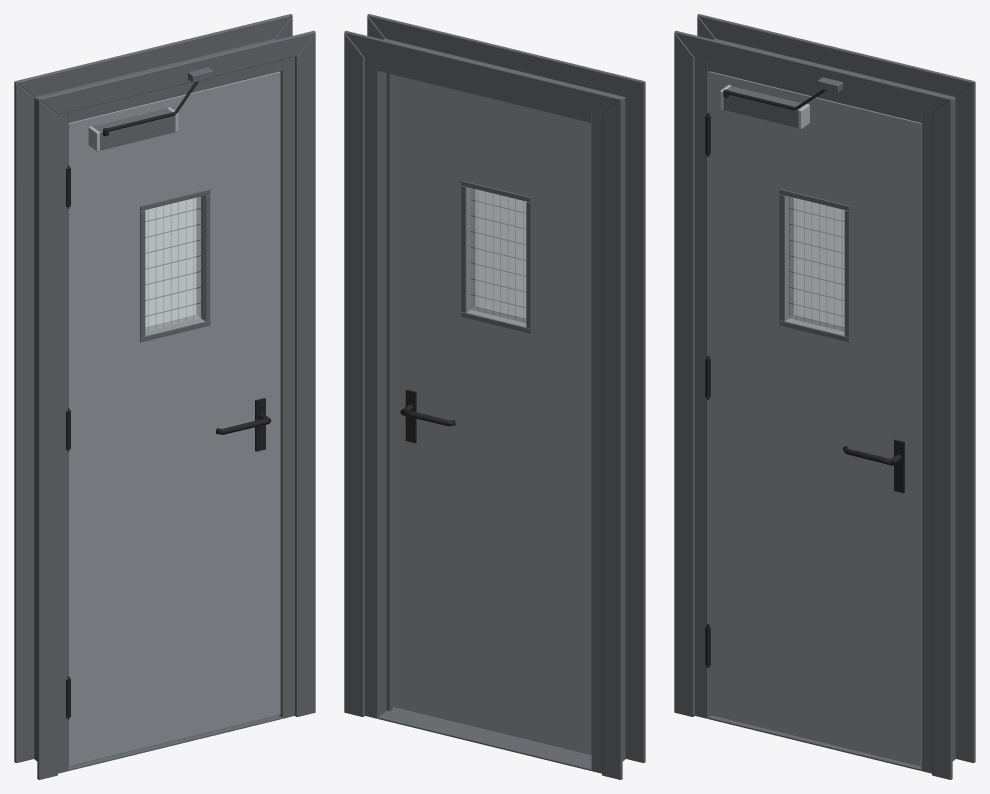
Rendered from door_fire_l.glb.
The picture shows the model from 3 angles, left to right: view 1: azimuth 30°, elevation 25°; view 2: azimuth 150°, elevation 25°; view 3: azimuth 330°, elevation 25°; orthographic projection.
Visible parts, largest first — view 1: door_fire_l_leaf_body, door_fire_l_casing, door_fire_l_frame, door_fire_l_vision_glass, door_fire_l_closer, door_fire_l_handle, door_fire_l_hinges; view 2: door_fire_l_leaf_body, door_fire_l_casing, door_fire_l_frame, door_fire_l_vision_glass, door_fire_l_handle; view 3: door_fire_l_leaf_body, door_fire_l_casing, door_fire_l_frame, door_fire_l_vision_glass, door_fire_l_closer, door_fire_l_handle, door_fire_l_hinges.
Boxes of the visible parts, x1,y1,x2,y2 form: door_fire_l_leaf_body: (68, 71, 280, 766); door_fire_l_casing: (14, 14, 315, 779); door_fire_l_frame: (34, 38, 294, 773); door_fire_l_vision_glass: (145, 196, 200, 331); door_fire_l_closer: (88, 67, 213, 151); door_fire_l_handle: (216, 398, 271, 451); door_fire_l_hinges: (66, 165, 70, 719); door_fire_l_leaf_body: (392, 74, 591, 754); door_fire_l_casing: (344, 14, 645, 779); door_fire_l_frame: (365, 38, 625, 773); door_fire_l_vision_glass: (470, 188, 526, 322); door_fire_l_handle: (400, 389, 455, 443); door_fire_l_leaf_body: (709, 71, 921, 766); door_fire_l_casing: (674, 14, 975, 779); door_fire_l_frame: (695, 38, 955, 773); door_fire_l_vision_glass: (789, 196, 844, 331); door_fire_l_closer: (720, 77, 842, 128); door_fire_l_handle: (843, 439, 904, 493); door_fire_l_hinges: (705, 112, 710, 667).
Size of the model in its own units: 0.92 by 2.16 by 0.1945.
6 materials, 1 textured.
